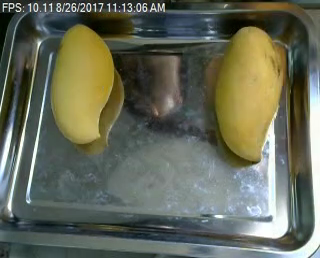Mango: (212, 23, 282, 165), (48, 20, 115, 145)
